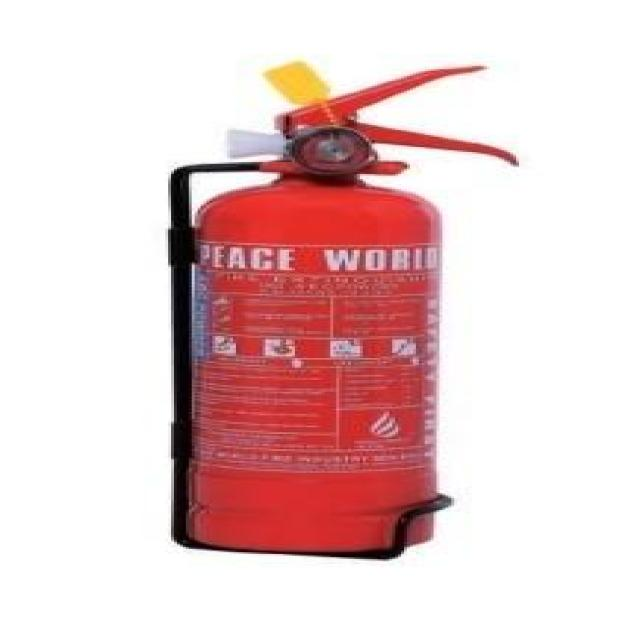fire_extinguisher: (161, 58, 526, 556)
